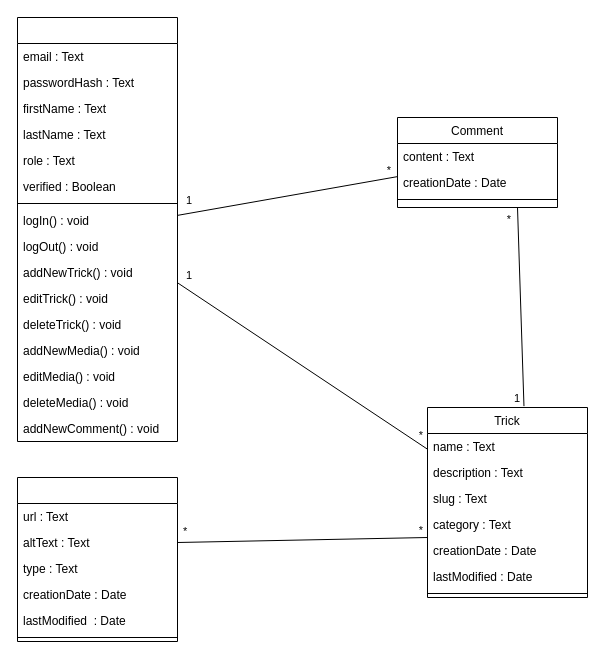
Image size: 605x659. Some labels were removed from this diagram. Each missing label, with the box of its shape:
Media: (16, 476, 178, 642)
User: (16, 16, 178, 442)
